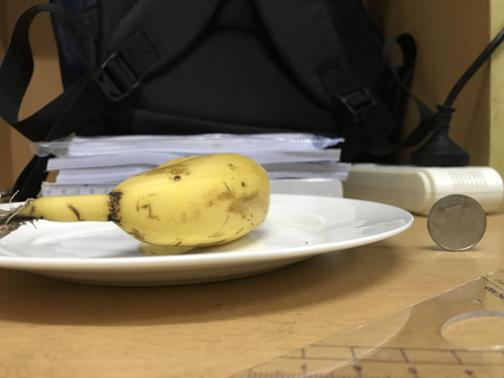banana: (25, 153, 272, 247)
coin: (426, 193, 486, 252)
